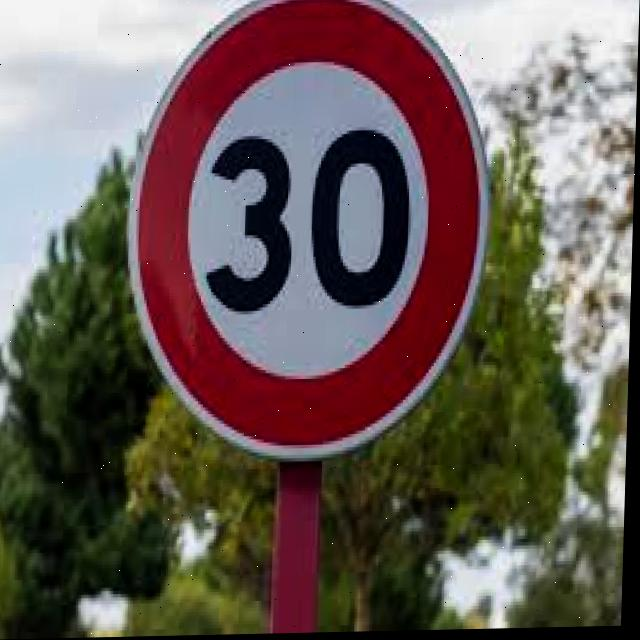Speed limit 30: (121, 1, 500, 471)
